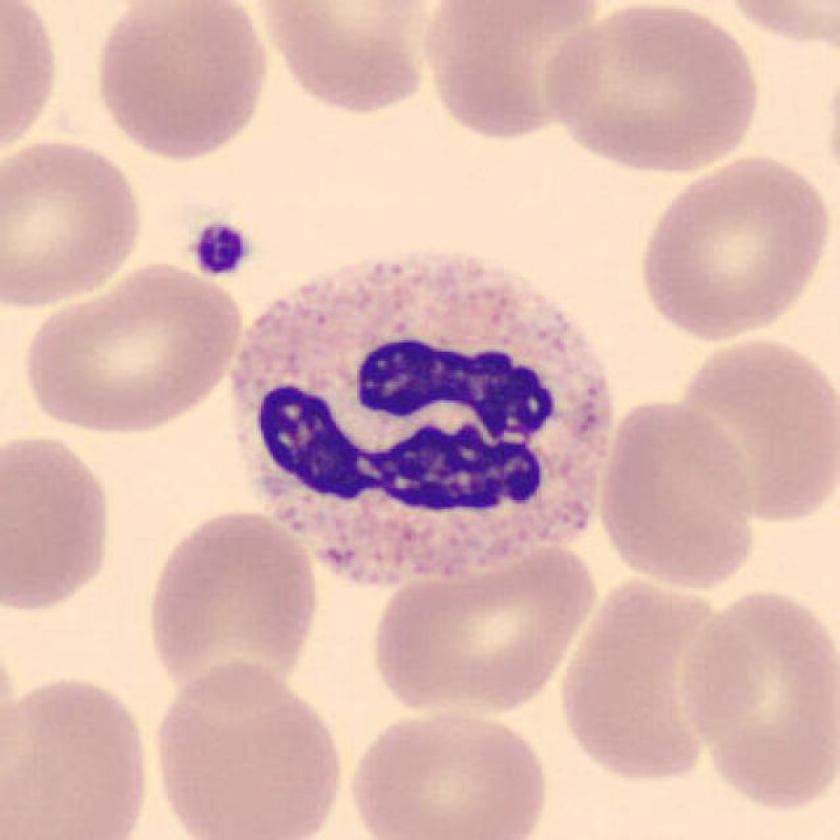neutrophil: (236, 255, 615, 587)
